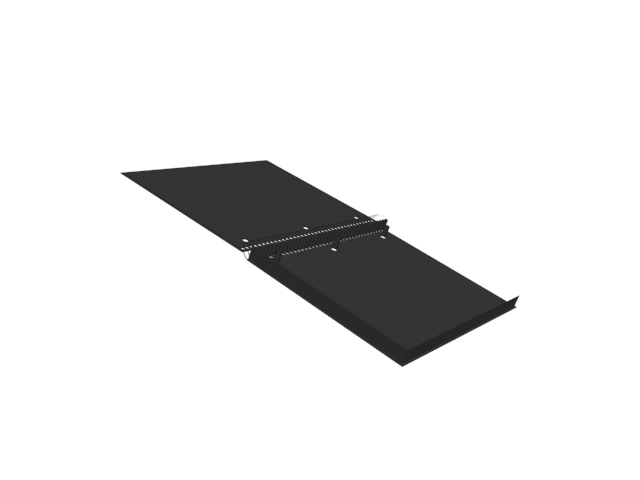paper_notebook: (121, 159, 520, 368)
